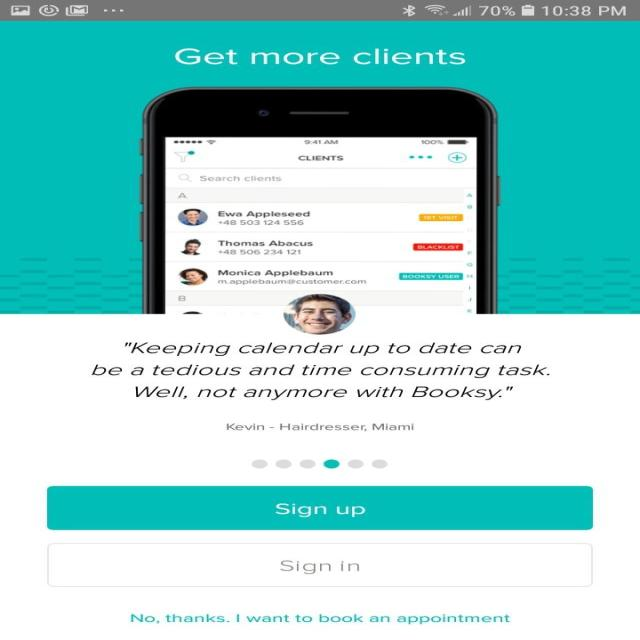Image: (138, 86, 500, 314), (282, 294, 356, 334)
Text: (90, 342, 550, 400), (173, 48, 464, 64), (130, 613, 510, 624), (225, 422, 414, 432)
TextButton: (46, 486, 593, 530), (47, 542, 592, 586)
